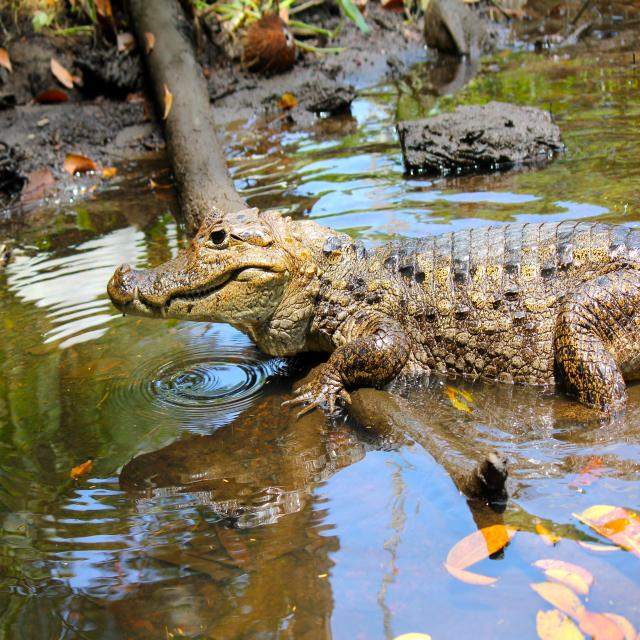crocodile: (69, 159, 640, 474)
